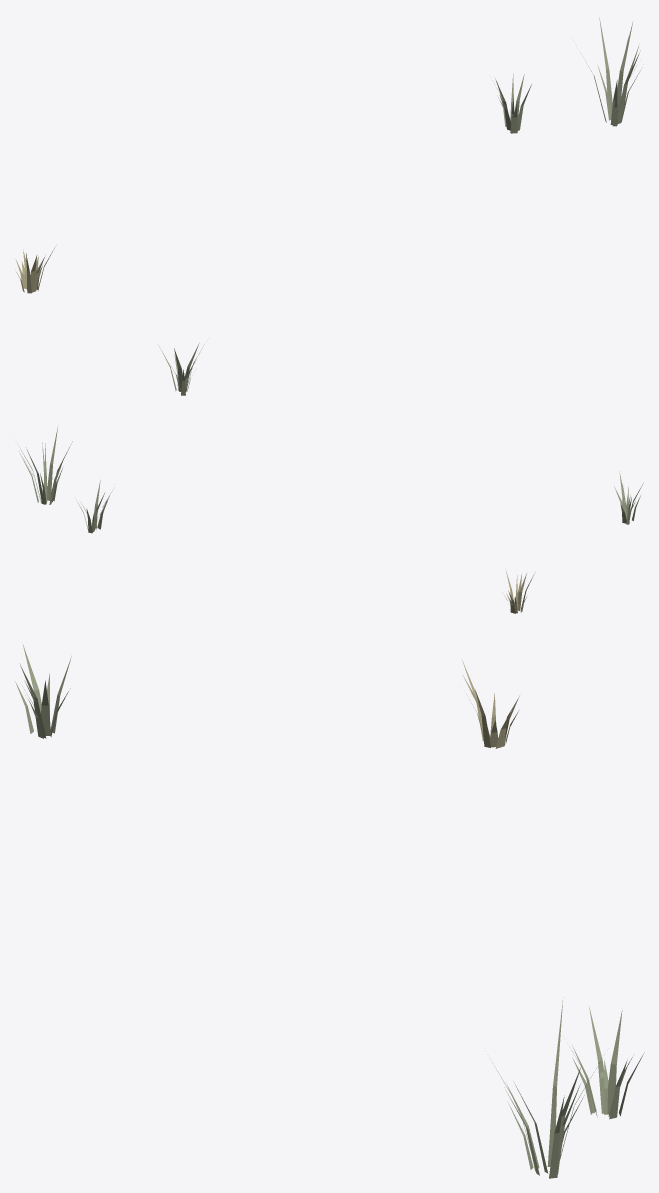
The model's file is AE_Grass_-1_3.fbx.
3 views of the same model, one above another, from view 1: azimuth 30°, elevation 25°; view 2: azimuth 150°, elevation 25°; view 3: azimuth 270°, elevation 25° (orthographic). The views are drawn at different scales.
Visible parts, largest first — view 1: AE_Grass_-1_3_LOD0; view 2: AE_Grass_-1_3_LOD0; view 3: AE_Grass_-1_3_LOD0.
Boxes of the visible parts, box(x1,y1,x2,y2) form: AE_Grass_-1_3_LOD0: box(15, 17, 642, 395); AE_Grass_-1_3_LOD0: box(17, 425, 643, 613); AE_Grass_-1_3_LOD0: box(15, 645, 644, 1178).
Size of what is drawn, in the model's own units: 485 by 75.23 by 271.
